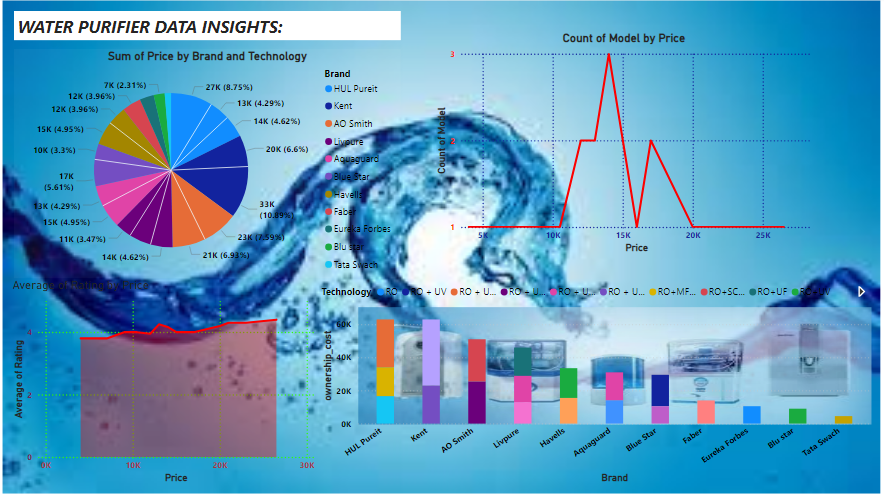

This screenshot's page, from the dashboard's own definition file:
{"tool":"powerbi","page":{"name":"Page 3","canvas":[1280,720],"ordinal":0},"visuals":[{"type":"image","box":[0,0,1280.2,720],"z":0},{"type":"pieChart","fields":{"Category":["Sheet2.Brand"],"Y":["Sum(Sheet2.Price )"],"Series":["Sheet2.Technology"]},"box":[24.5,74.9,557.3,329.8],"z":1},{"type":"ribbonChart","fields":{"Category":["Sheet2.Brand"],"Y":["Sheet2.ownership_cost"],"Series":["Sheet2.Technology"]},"box":[462.2,404.6,802.1,301],"z":2},{"type":"stackedAreaChart","fields":{"Category":["Sheet2.Price "],"Y":["Avg(Sheet2.Rating)"]},"box":[17.3,404.6,445,301],"z":3},{"type":"lineChart","fields":{"Category":["Sheet2.Price "],"Y":["CountNonNull(Sheet2.Model)"]},"box":[626.4,49,553,325.4],"z":4},{"type":"textbox","box":[24.5,20.2,557.3,41.8],"z":5}]}

Visuals, with their boxes in screenshot pixels (x1, y1, x2, y2), scaled from the page's 1280x720 canvas onto the 884x495 screenshot:
image: left=0, top=0, right=883, bottom=494
pieChart - Sheet2.Brand x Sum(Sheet2.Price ): left=17, top=51, right=402, bottom=278
ribbonChart - Sheet2.Brand x Sheet2.ownership_cost: left=319, top=278, right=873, bottom=485
stackedAreaChart - Sheet2.Price  x Avg(Sheet2.Rating): left=12, top=278, right=319, bottom=485
lineChart - Sheet2.Price  x CountNonNull(Sheet2.Model): left=433, top=34, right=815, bottom=257
textbox: left=17, top=14, right=402, bottom=43
